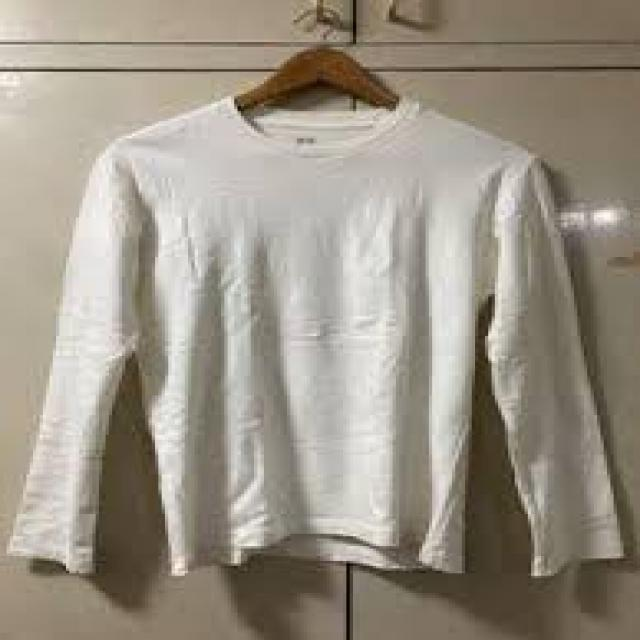plain: (16, 100, 626, 581)
